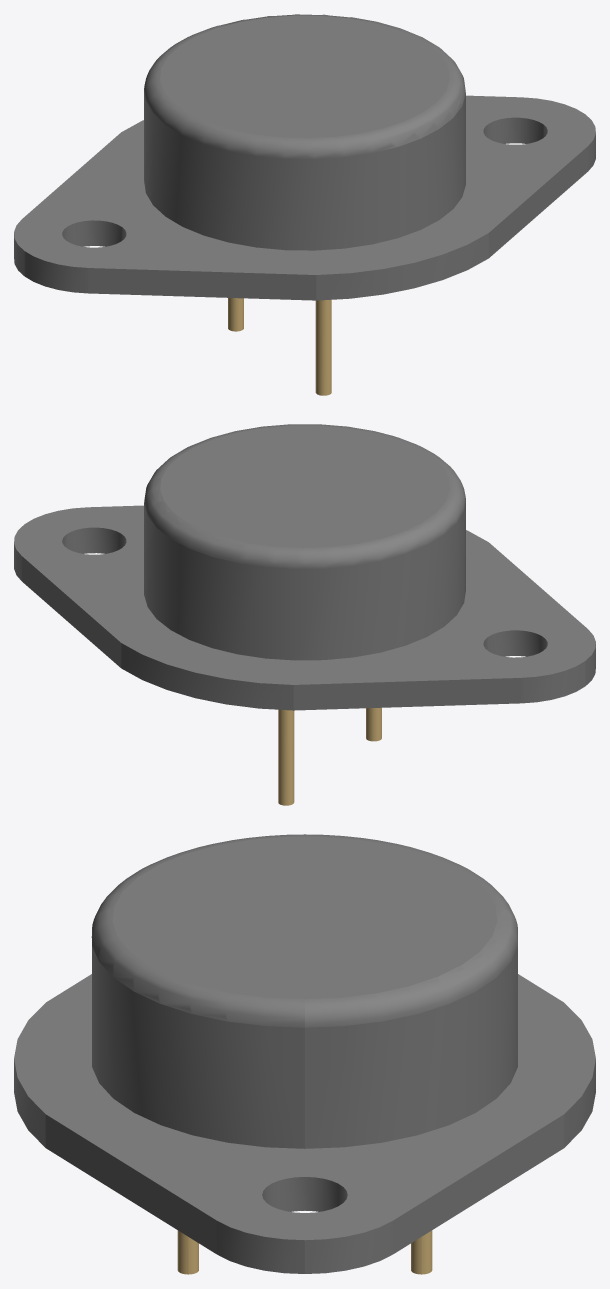
The picture shows the model from 3 angles, top to bottom: view 1: azimuth 30°, elevation 25°; view 2: azimuth 150°, elevation 25°; view 3: azimuth 270°, elevation 25°; orthographic projection. The views are drawn at different scales.
Parts seen in each view (by area): view 1: 0.25_0.25_0.25_0, 0.75_0.5_0.25_0.9; view 2: 0.25_0.25_0.25_0, 0.75_0.5_0.25_0.9; view 3: 0.25_0.25_0.25_0, 0.75_0.5_0.25_0.9.
Boxes of the visible parts, box(x1,y1,x2,y2) form: 0.25_0.25_0.25_0: box(14, 14, 595, 300); 0.75_0.5_0.25_0.9: box(228, 298, 331, 395); 0.25_0.25_0.25_0: box(14, 424, 595, 710); 0.75_0.5_0.25_0.9: box(278, 707, 381, 805); 0.25_0.25_0.25_0: box(14, 834, 595, 1273); 0.75_0.5_0.25_0.9: box(177, 1230, 432, 1274).
Size of the model in its own units: 4.02 by 1.9 by 2.72.
